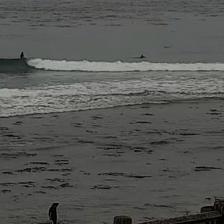surfer: (20, 52, 25, 58), (140, 54, 146, 58)
